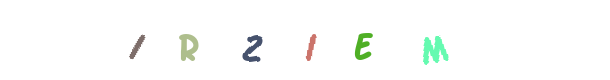2: (265, 0, 345, 80)
E: (322, 0, 402, 80)
I: (172, 0, 252, 80), (265, 0, 345, 80)
M: (394, 0, 474, 80)
R: (176, 0, 256, 80)
